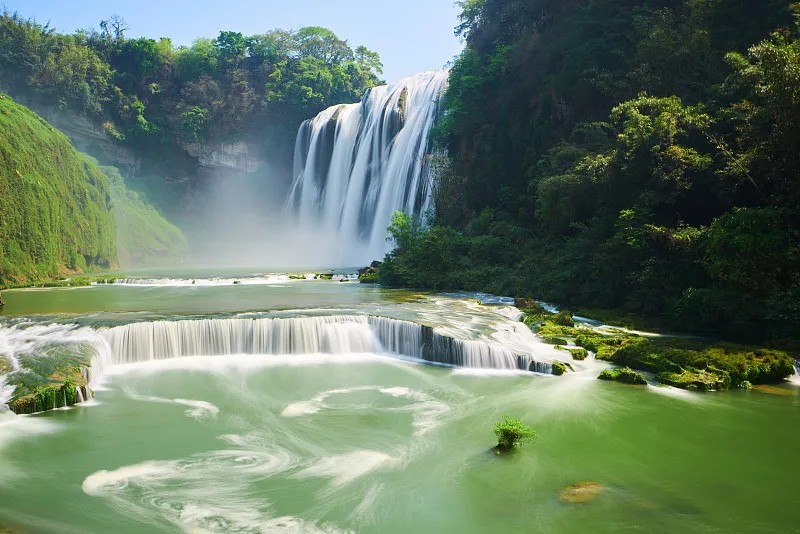Huangguoshu: (284, 69, 449, 268)
